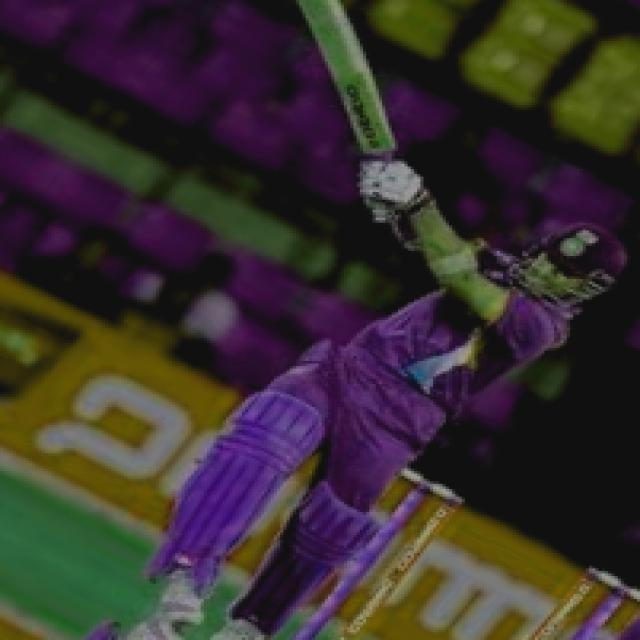toe: (293, 1, 356, 44)
